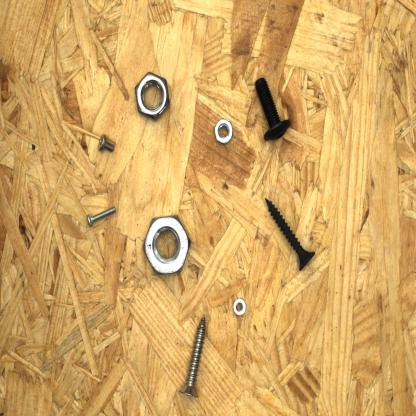screw: (262, 193, 318, 274), (252, 73, 293, 144), (178, 311, 210, 400), (85, 203, 118, 230), (95, 131, 118, 156)
